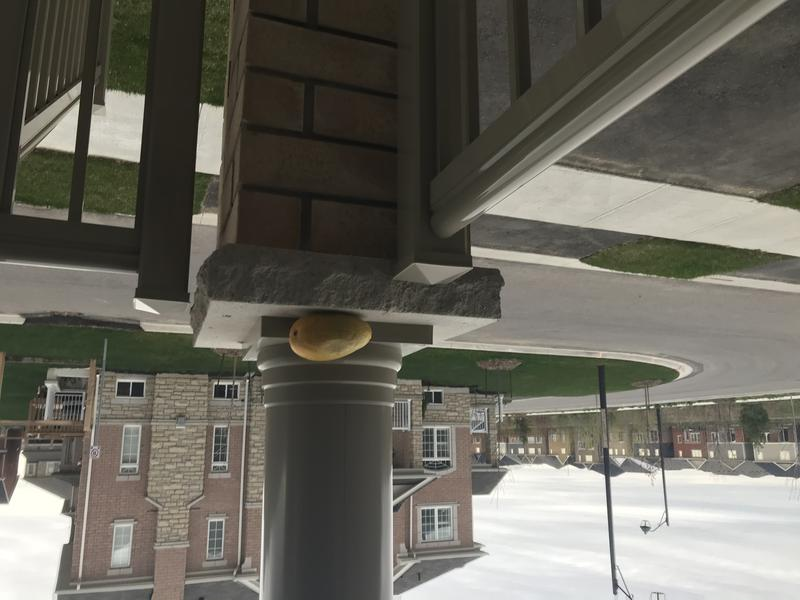mango: (284, 307, 378, 369)
